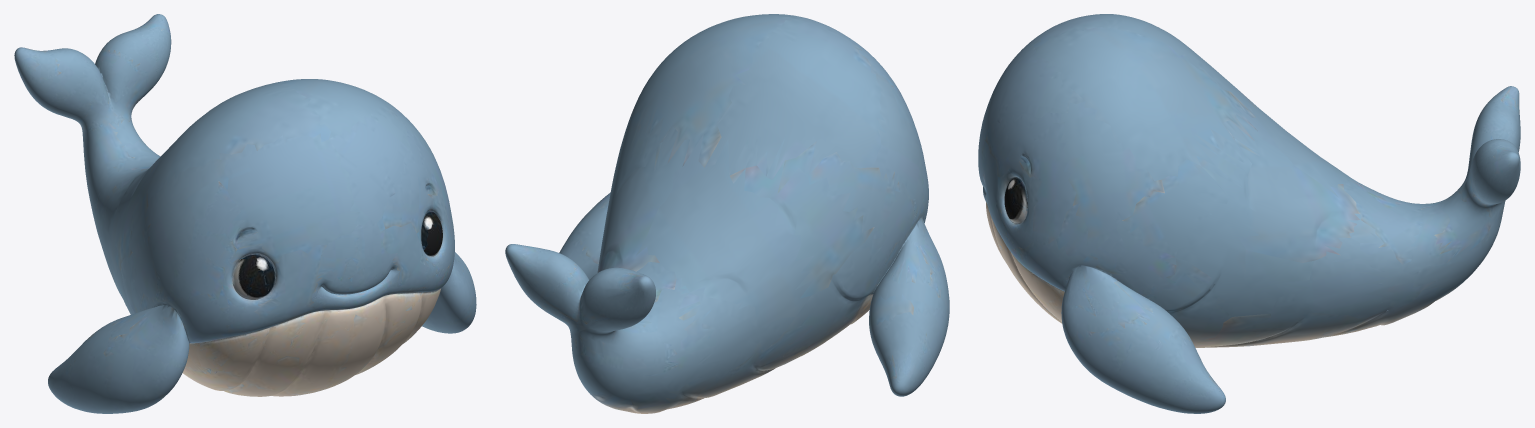
3 renders of one model, left to right at view 1: azimuth 30°, elevation 25°; view 2: azimuth 150°, elevation 25°; view 3: azimuth 270°, elevation 25°, orthographic. The views are drawn at different scales.
Size of the model in its own units: 1.54 by 1.15 by 1.9.
Materials: 1 (1 with a texture image).
